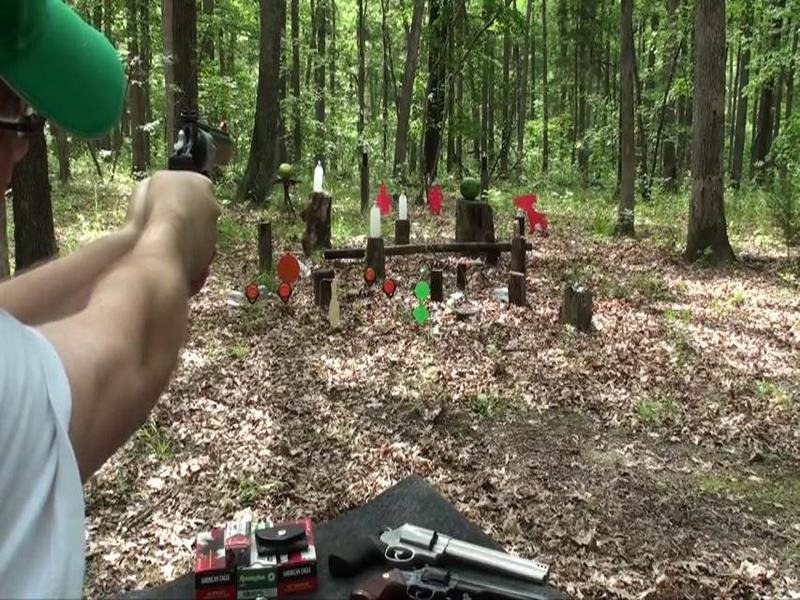Revolver: (144, 104, 243, 206)
